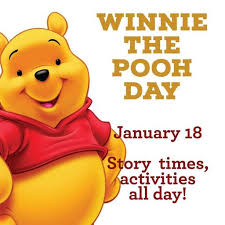Winnie: (1, 24, 105, 153)
